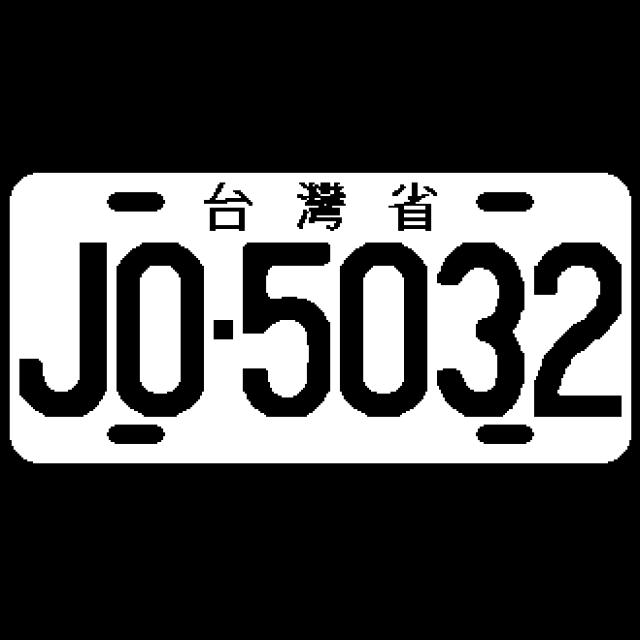plate: (6, 170, 634, 468)
